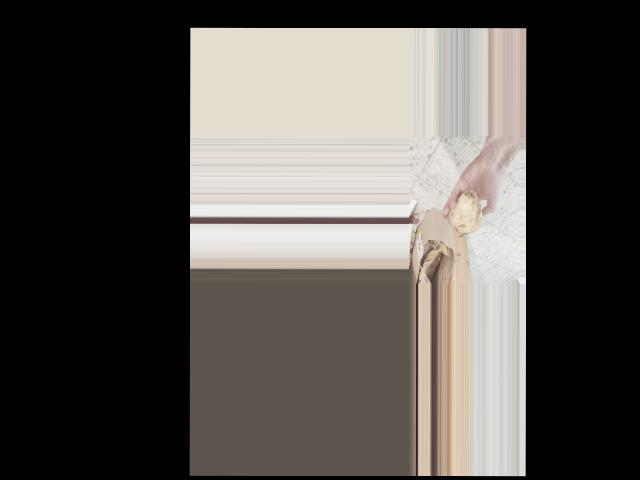onion: (446, 186, 486, 236)
